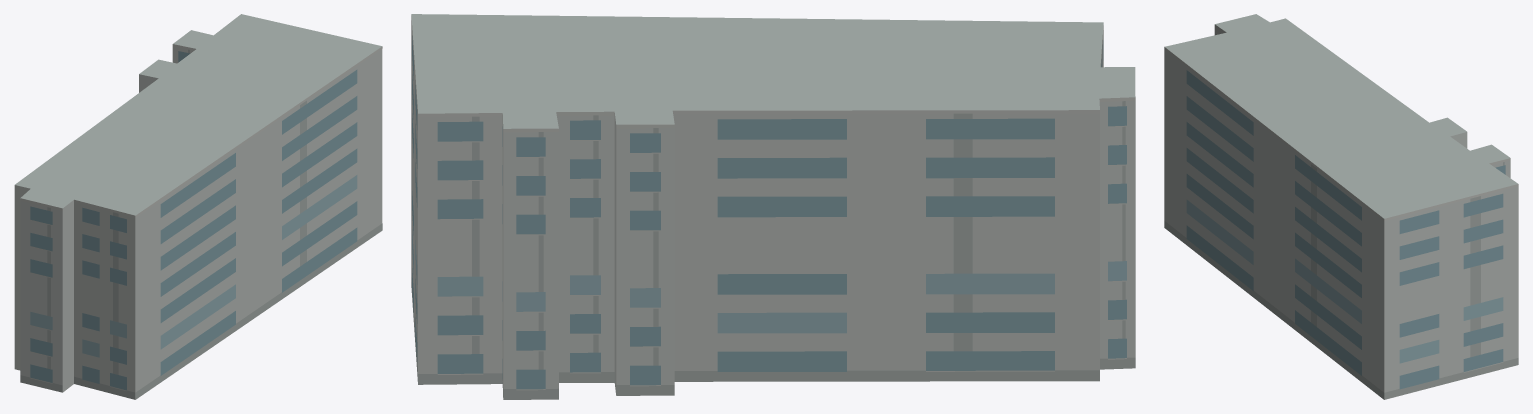
File: survey-upis-32990109.glb
3 renders of one model, left to right at view 1: azimuth 30°, elevation 25°; view 2: azimuth 150°, elevation 25°; view 3: azimuth 270°, elevation 25°, orthographic. The views are drawn at different scales.
Parts seen in each view (by area): view 1: survey-upis-32990109.tmp; view 2: survey-upis-32990109.tmp; view 3: survey-upis-32990109.tmp.
Part boxes in pixels (left/top/right/bottom): survey-upis-32990109.tmp: left=14, top=14, right=382, bottom=399; survey-upis-32990109.tmp: left=411, top=14, right=1135, bottom=399; survey-upis-32990109.tmp: left=1164, top=14, right=1518, bottom=399.
Bounding box in the file's own units: 45.98 × 18.95 × 33.59.
